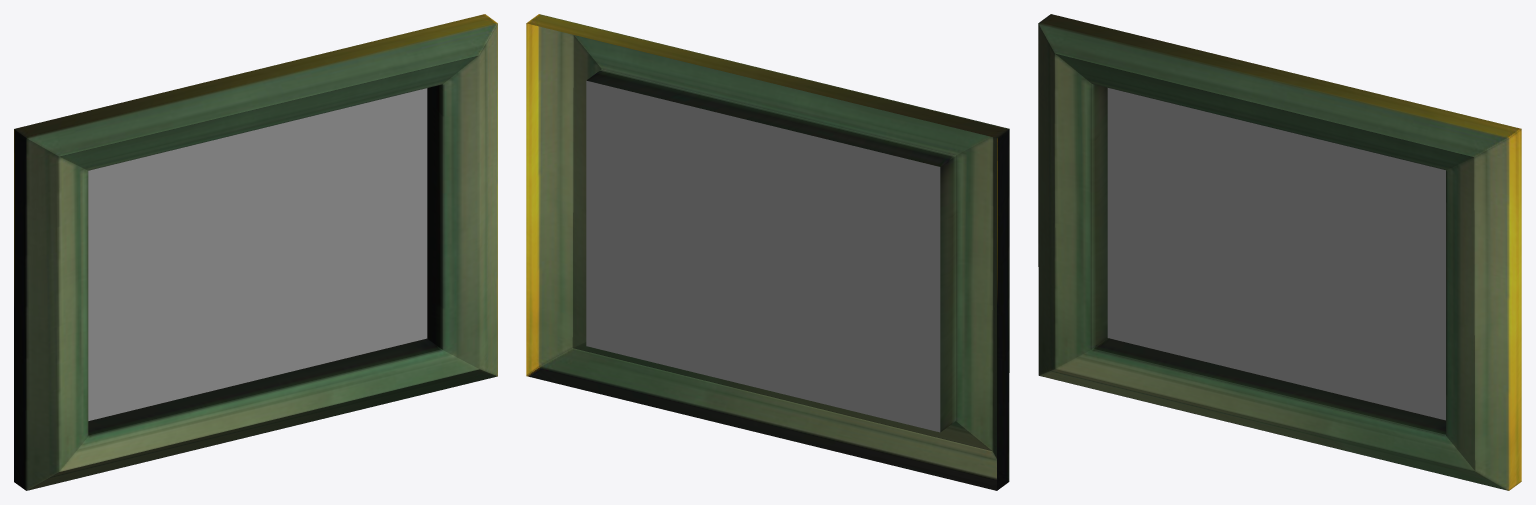
The model's file is bathroom_mediaframe.dae.
3 renders of one model, left to right at view 1: azimuth 30°, elevation 25°; view 2: azimuth 150°, elevation 25°; view 3: azimuth 330°, elevation 25°, orthographic.
Parts seen in each view (by area): view 1: BathroomFrame, BathroomImage; view 2: BathroomImage, BathroomFrame; view 3: BathroomFrame, BathroomImage.
Boxes of the visible parts, left/top/right/bottom form: BathroomFrame: left=14, top=14, right=497, bottom=490; BathroomImage: left=88, top=88, right=427, bottom=420; BathroomImage: left=586, top=80, right=940, bottom=432; BathroomFrame: left=526, top=14, right=1009, bottom=490; BathroomFrame: left=1038, top=14, right=1521, bottom=490; BathroomImage: left=1107, top=88, right=1445, bottom=420.
Size of the model in its own units: 2.66 by 1.9 by 0.2011.
Materials: 2 (1 with a texture image).
